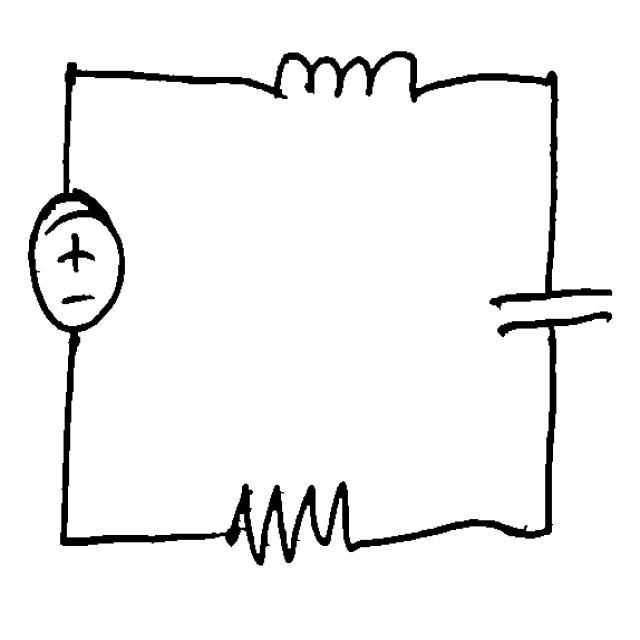capacitor: (477, 267, 620, 352)
dc: (19, 181, 136, 342)
inductor: (249, 42, 434, 123)
resistor: (216, 468, 369, 572)
